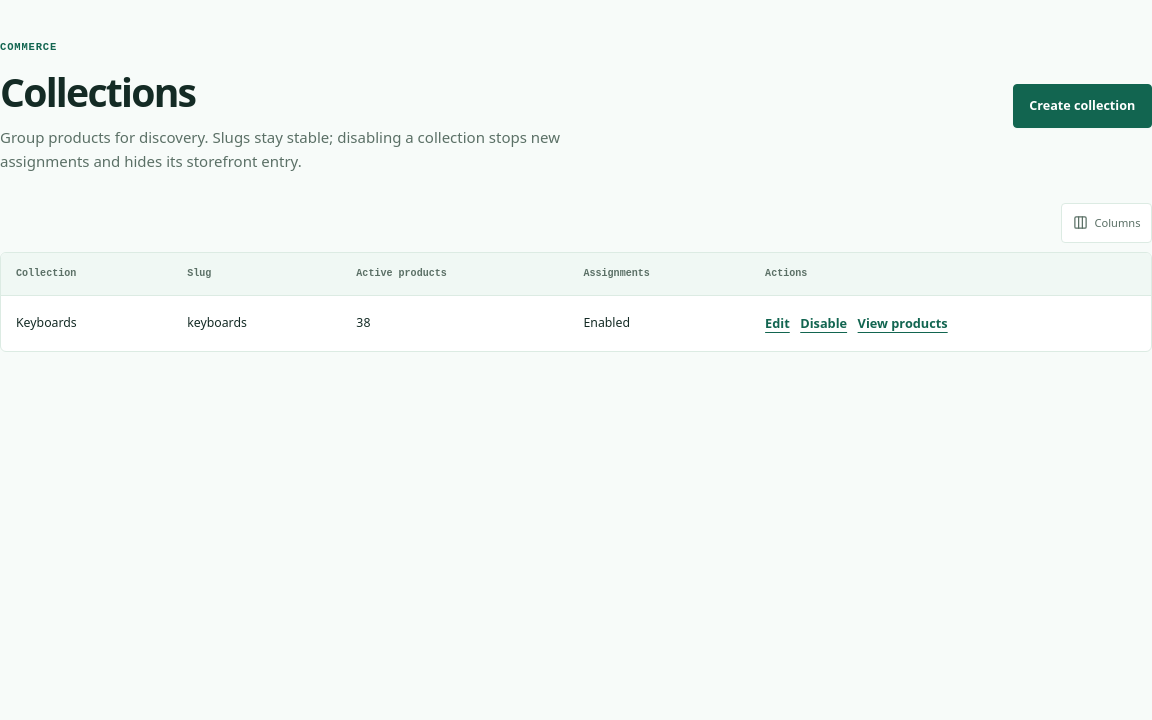
Test: validates slugs and protects unsaved collection details when closing the editor
expect the text "Keyboards" is shown: met, box [1,296,172,351]
Click the button "Create collection": (1082, 106) [1012,84,1151,128]
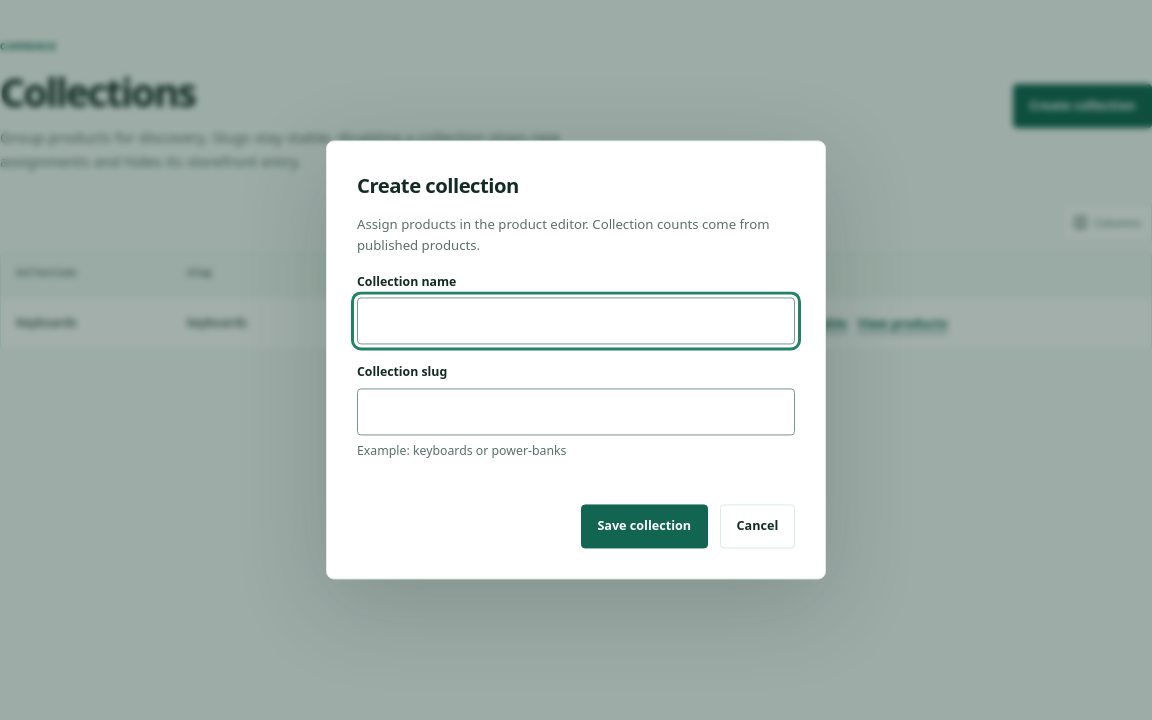
In the field labelled "Collection name": (576, 321) [357,298,795,345], type "Office tech"
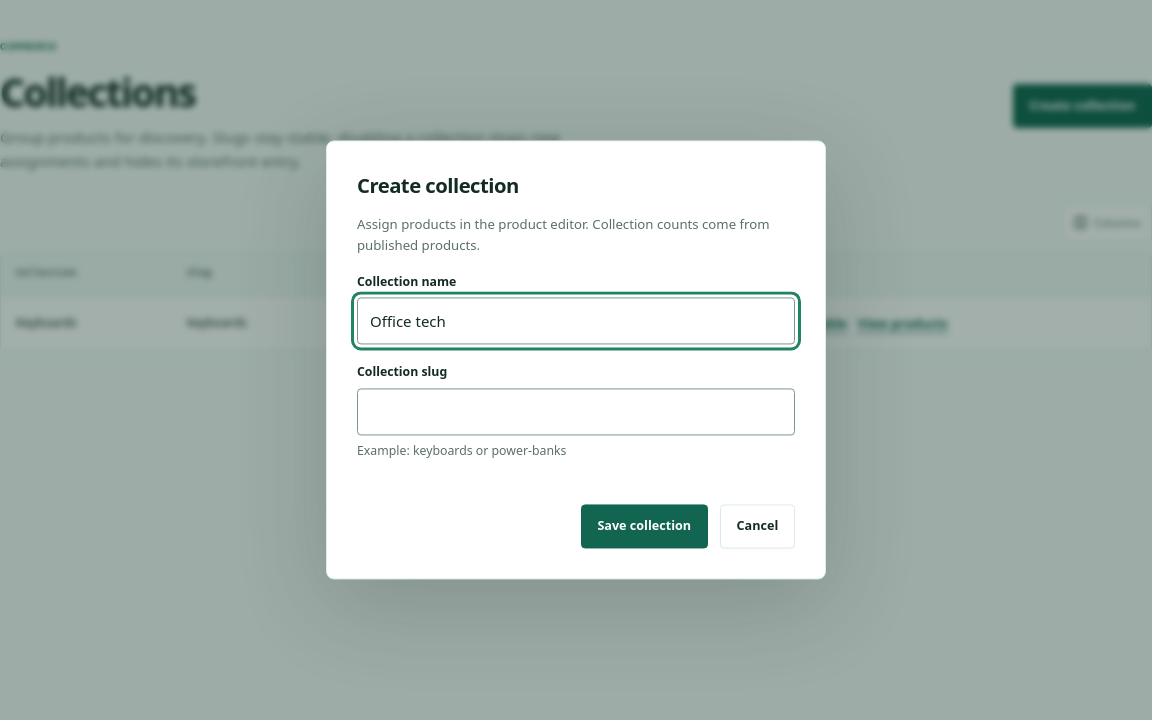
In the field labelled "Collection slug": (576, 412) [357,388,795,435], type "Bad Slug"
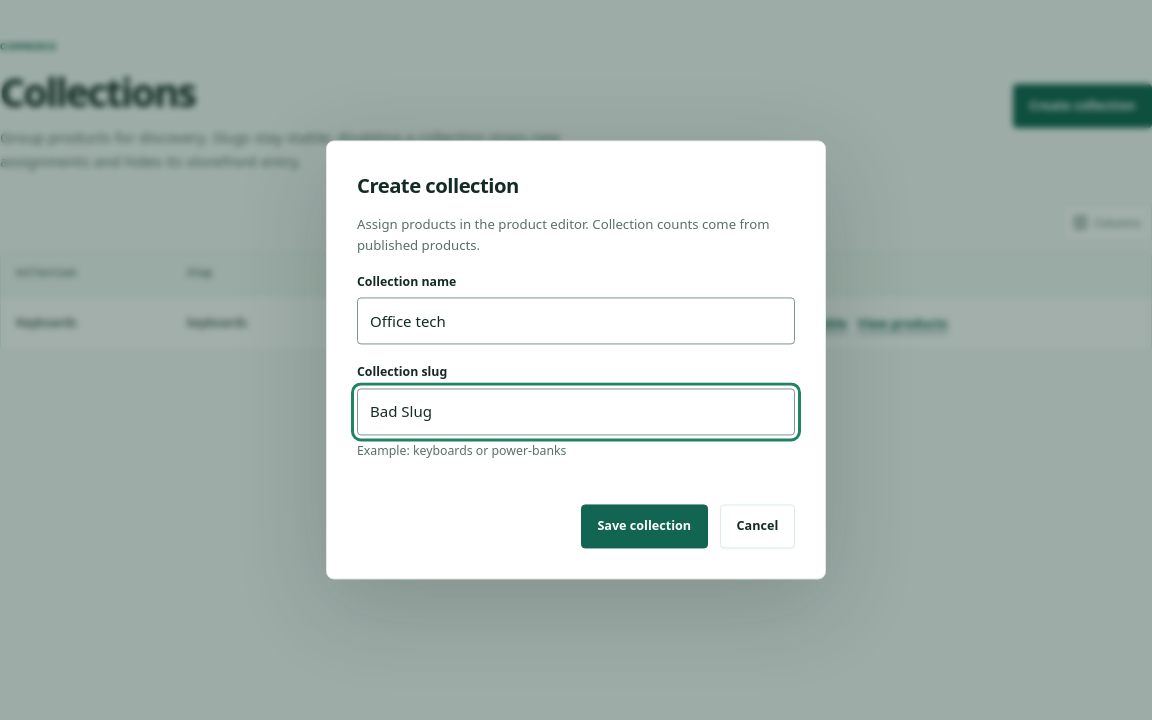
Click the button "Save collection": (644, 527) [581,505,708,549]
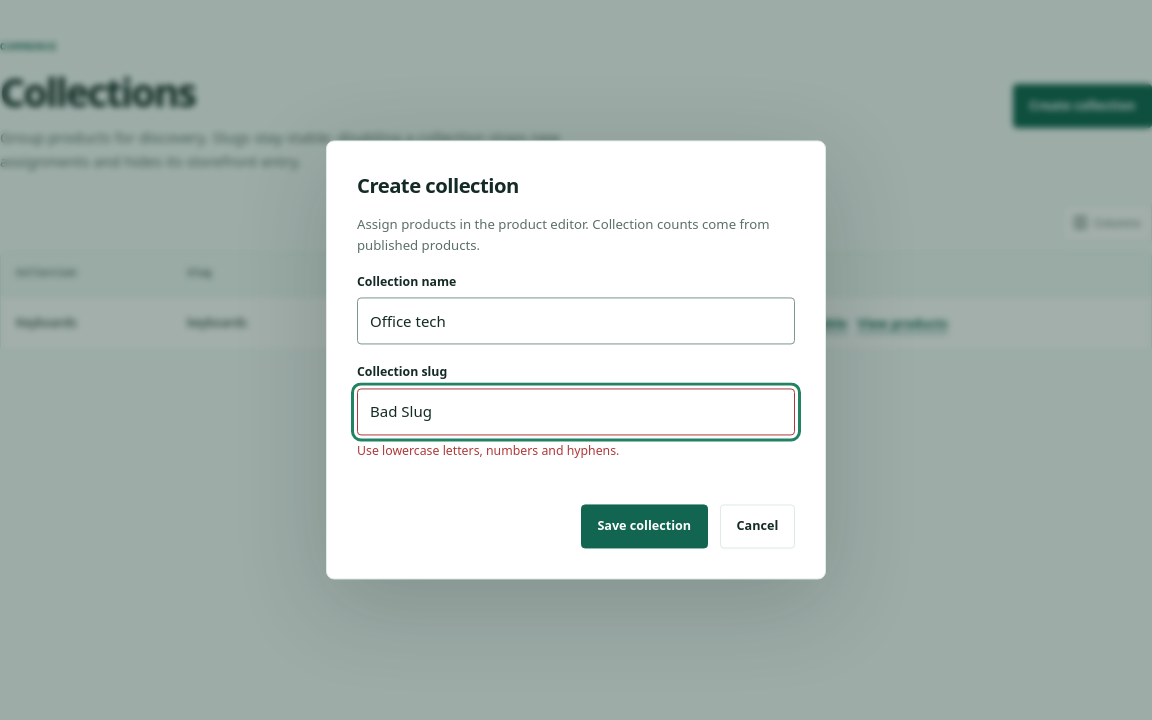
expect the text "Use lowercase letters, numbers and hyphens." is shown: met, box [357,442,619,459]
Click the button "Cancel": (757, 527) [720,505,795,549]
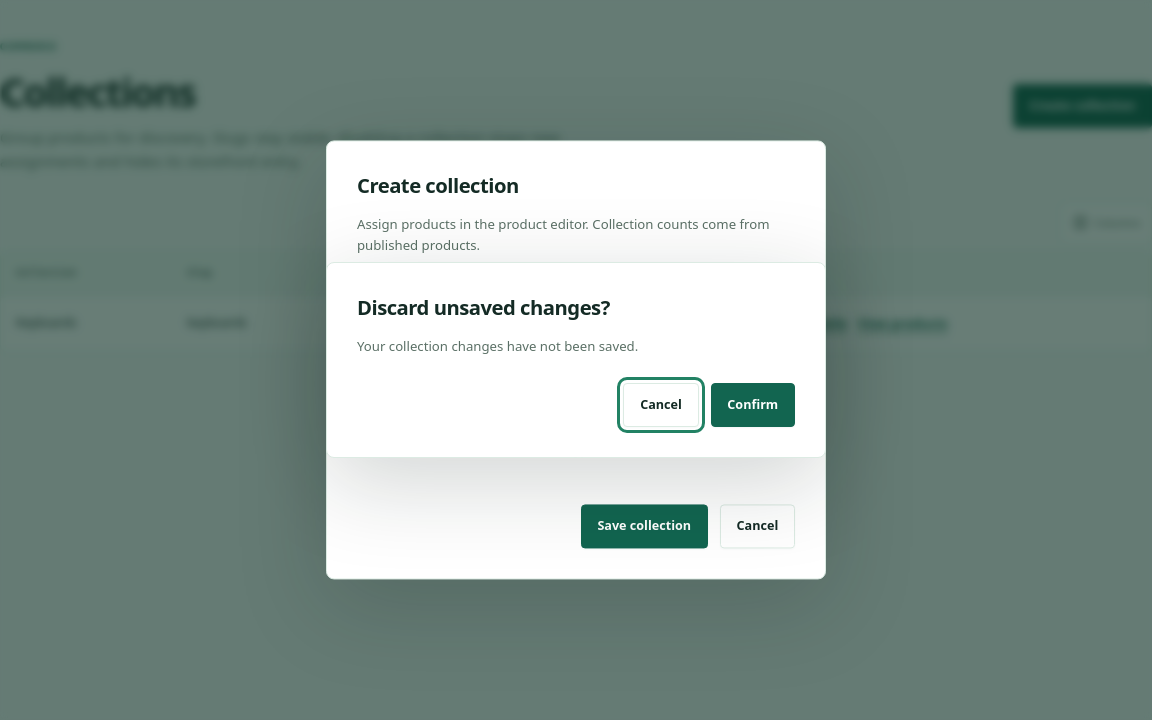
Click the button "Confirm": (753, 405) [711,383,795,427]
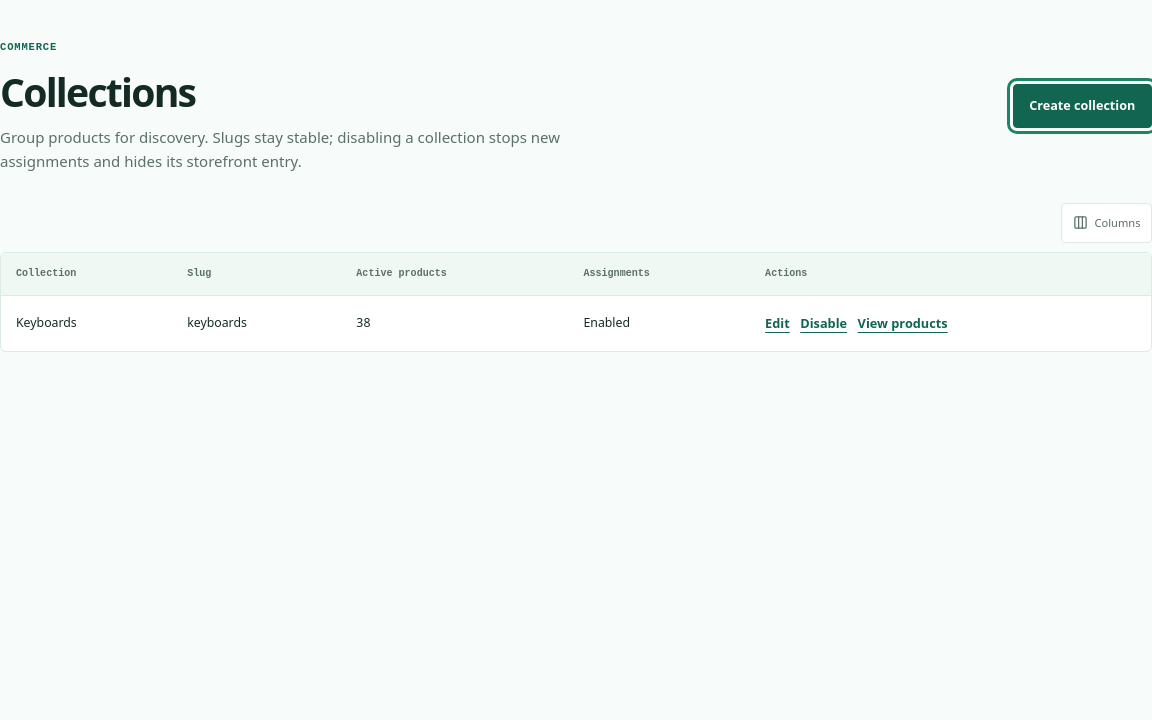
expect the dialog is gone: met
